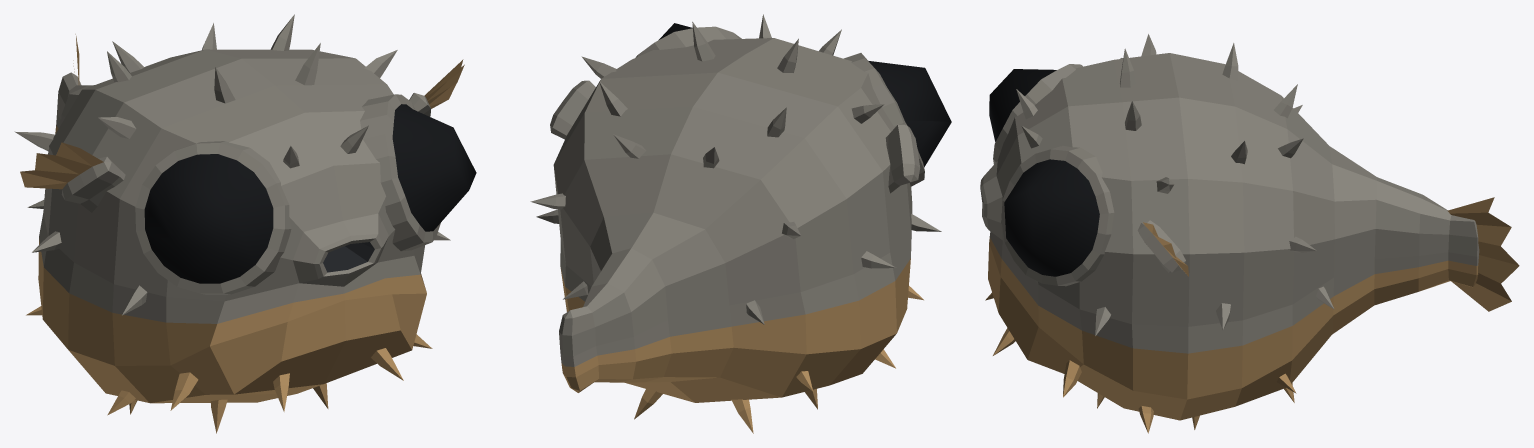
Rendered from cc0-puffer-lod1.glb.
3 views of the same model, side by side, from view 1: azimuth 30°, elevation 25°; view 2: azimuth 150°, elevation 25°; view 3: azimuth 270°, elevation 25° (orthographic). The views are drawn at different scales.
Parts seen in each view (by area): view 1: part_0; view 2: part_0; view 3: part_0.
Part boxes in pixels (x1=…): part_0: x1=14, y1=14, x2=476, y2=433; part_0: x1=530, y1=14, x2=951, y2=433; part_0: x1=980, y1=34, x2=1519, y2=433.
Bounding box in the file's own units: 3.44 × 2.69 × 3.94.
